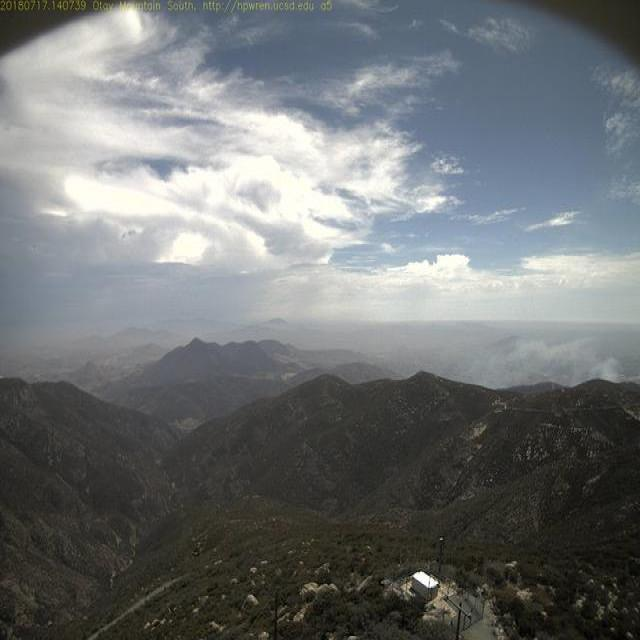smoke: (471, 320, 621, 393)
